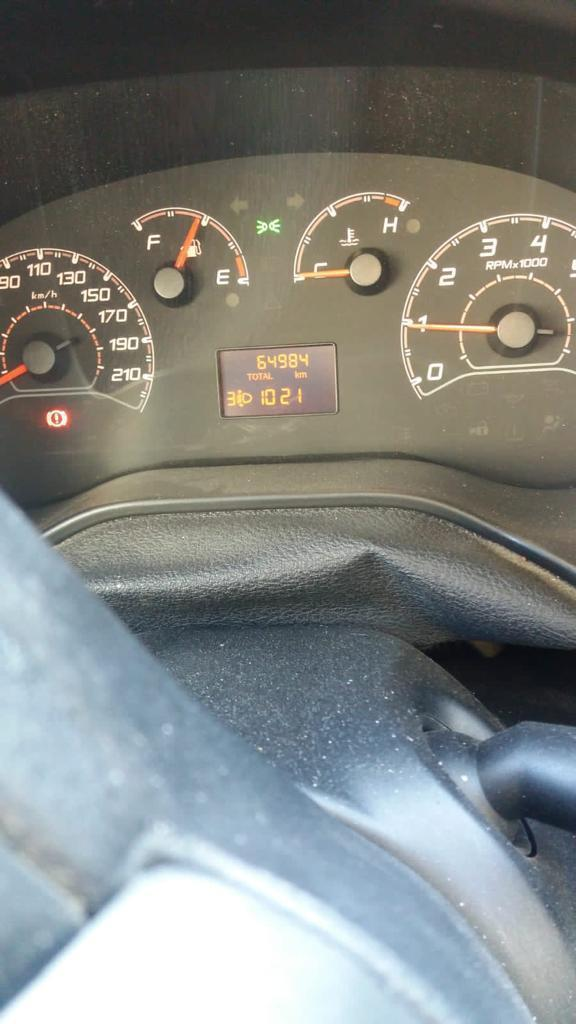0: (264, 388, 275, 405)
1: (296, 387, 302, 404), (260, 389, 264, 405)
2: (279, 387, 291, 405)
3: (226, 391, 235, 406)
4: (298, 352, 308, 367), (267, 354, 276, 368)
6: (256, 354, 266, 369)
8: (288, 353, 298, 368)
9: (277, 354, 287, 368)
X: (251, 372, 259, 381), (299, 371, 307, 378), (267, 371, 273, 380), (293, 369, 299, 378), (262, 372, 267, 380), (258, 372, 263, 380), (246, 373, 251, 381)
odometer: (213, 341, 339, 421)
